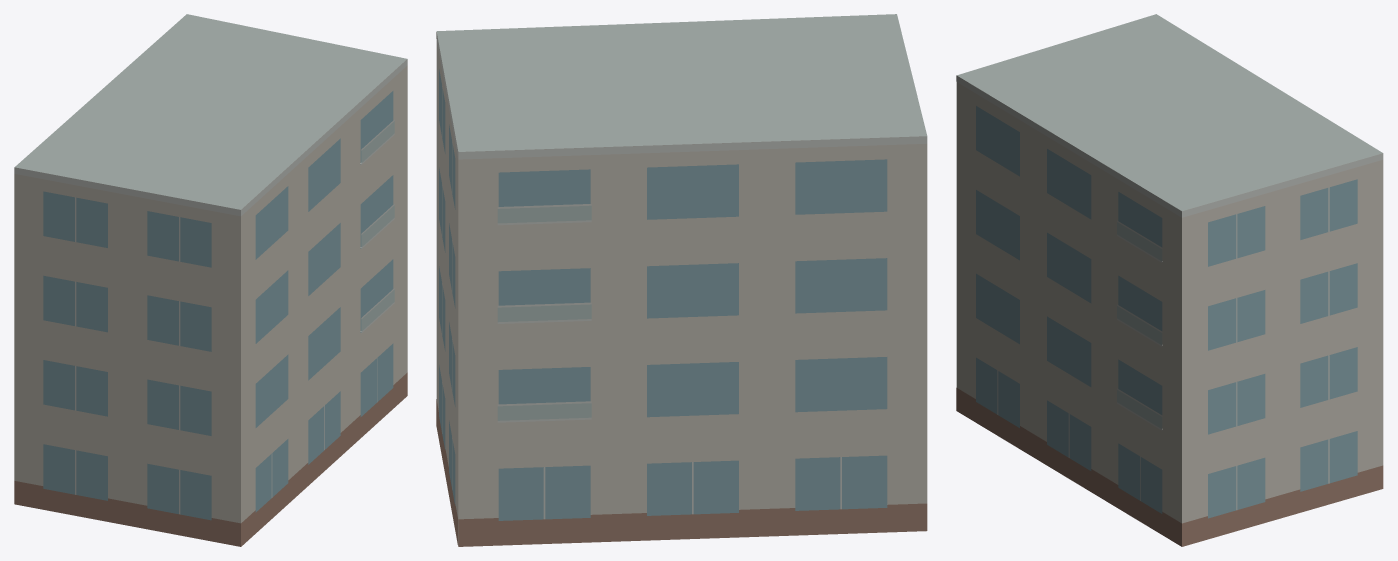
The model's file is survey-upis-32804262.glb.
3 views of the same model, side by side, from view 1: azimuth 30°, elevation 25°; view 2: azimuth 150°, elevation 25°; view 3: azimuth 270°, elevation 25° (orthographic). The views are drawn at different scales.
Visible parts, largest first — view 1: survey-upis-32804262.tmp; view 2: survey-upis-32804262.tmp; view 3: survey-upis-32804262.tmp.
Part boxes in pixels (bbox=[...]): survey-upis-32804262.tmp: bbox=[14, 14, 407, 546]; survey-upis-32804262.tmp: bbox=[436, 14, 927, 546]; survey-upis-32804262.tmp: bbox=[956, 14, 1383, 546].
Bounding box in the file's own units: 15.96 × 12.65 × 14.59.
